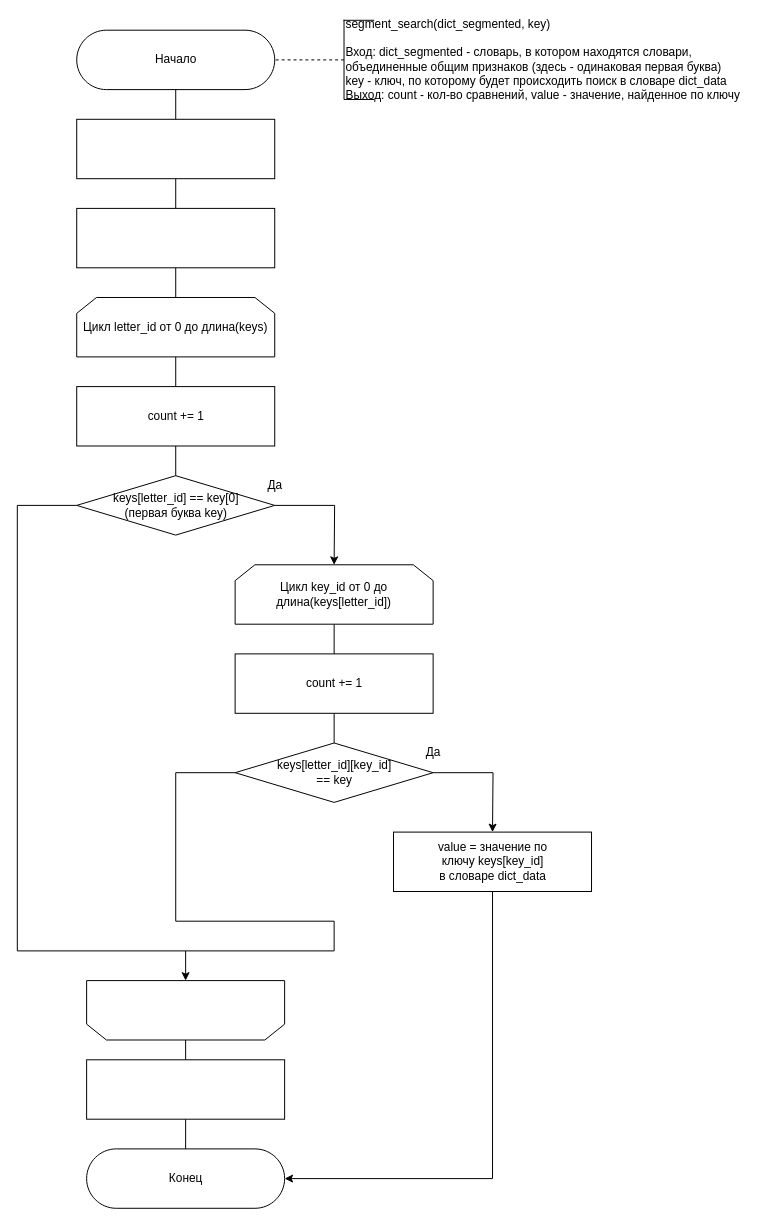
The diagram is 757 pixels wide and 1226 high, and some of its shapes have lost their labels. The shapes that lost their labels are listed below. From the top down, each one's centre as x and y in pixels, then its label:
At point 175,148: "Инициализация value count = 0".
At point 175,237: "keys - массив ключей из словаря dict_segmented".
At point 185,1010: "key_id += 1".
At point 185,1089: "count = -1 (не найден ключ в словаре)".
